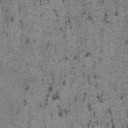oxide scale of temperature system: (38, 41, 128, 128), (80, 3, 119, 24), (52, 0, 72, 38), (2, 6, 24, 28), (24, 37, 52, 50), (22, 84, 30, 106), (39, 0, 42, 6), (125, 39, 128, 44)
